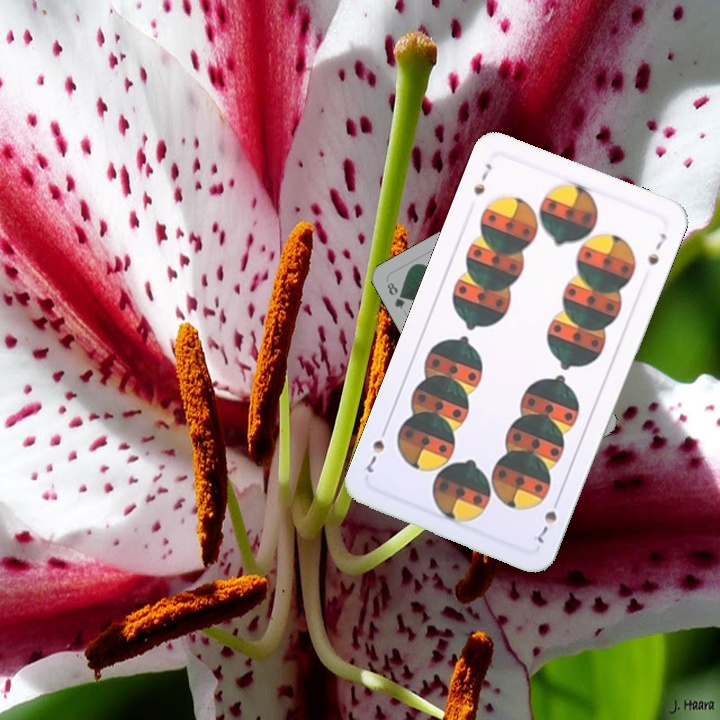G8: (383, 278, 407, 312)
S7: (533, 492, 563, 546), (469, 159, 495, 198)
